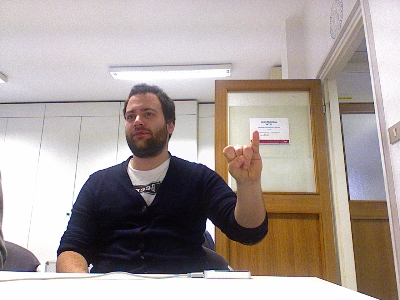小指: (221, 129, 263, 183)
